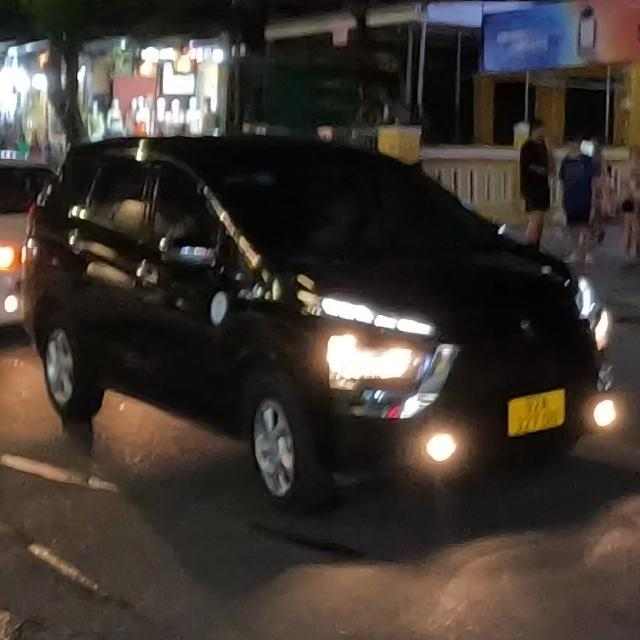license-plate: (504, 386, 567, 438)
